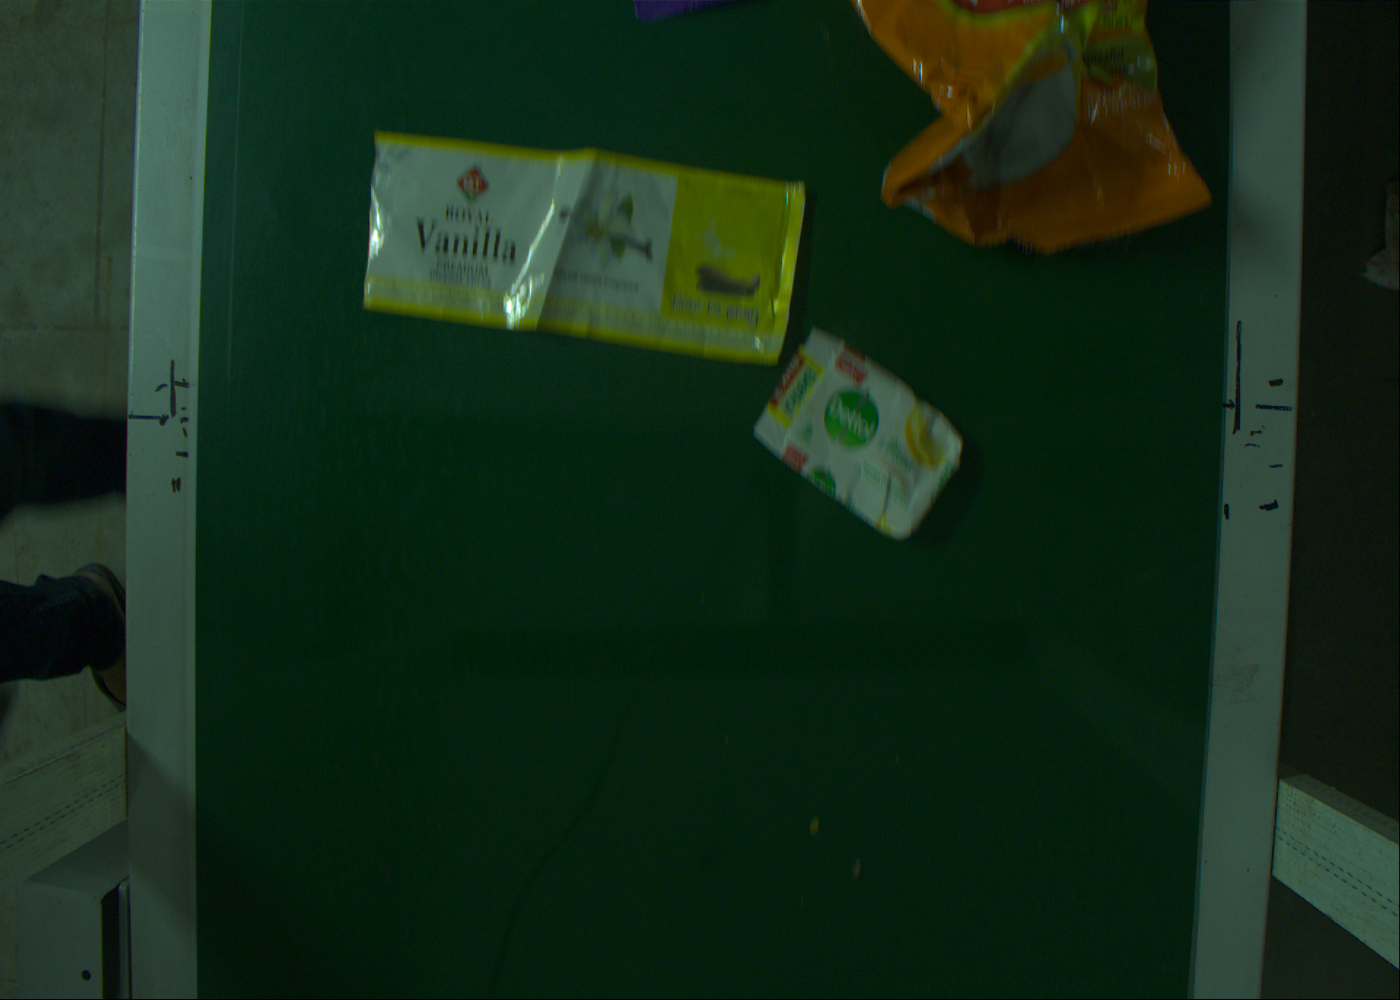multilayer_plastic: (860, 1, 1197, 253)
pp_w: (349, 128, 824, 364), (753, 323, 979, 541)
